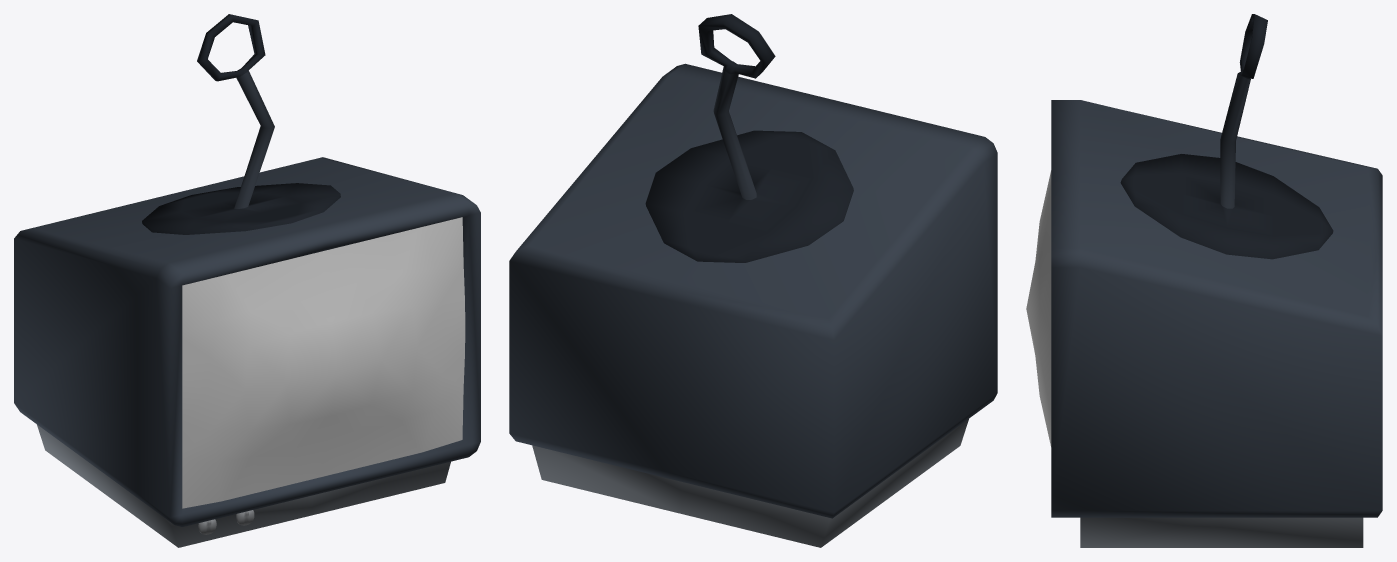
3 renders of one model, left to right at view 1: azimuth 30°, elevation 25°; view 2: azimuth 150°, elevation 25°; view 3: azimuth 270°, elevation 25°, orthographic. The views are drawn at different scales.
Visible parts, largest first — view 1: TV_Upper, TV_Screen, TV_Antenna, TV_Base; view 2: TV_Upper, TV_Antenna, TV_Base; view 3: TV_Upper, TV_Antenna, TV_Base, TV_Screen.
Boxes of the visible parts, x1,y1,x2,y2 form: TV_Upper: (14, 157, 480, 526); TV_Screen: (182, 217, 465, 508); TV_Antenna: (142, 14, 340, 234); TV_Base: (37, 424, 450, 547); TV_Upper: (509, 63, 997, 518); TV_Antenna: (645, 14, 853, 262); TV_Base: (532, 419, 968, 547); TV_Upper: (1051, 100, 1382, 517); TV_Antenna: (1120, 14, 1333, 259); TV_Base: (1080, 517, 1363, 547); TV_Screen: (1026, 170, 1051, 446).
Size of the model in its own units: 156 by 211 by 146.
